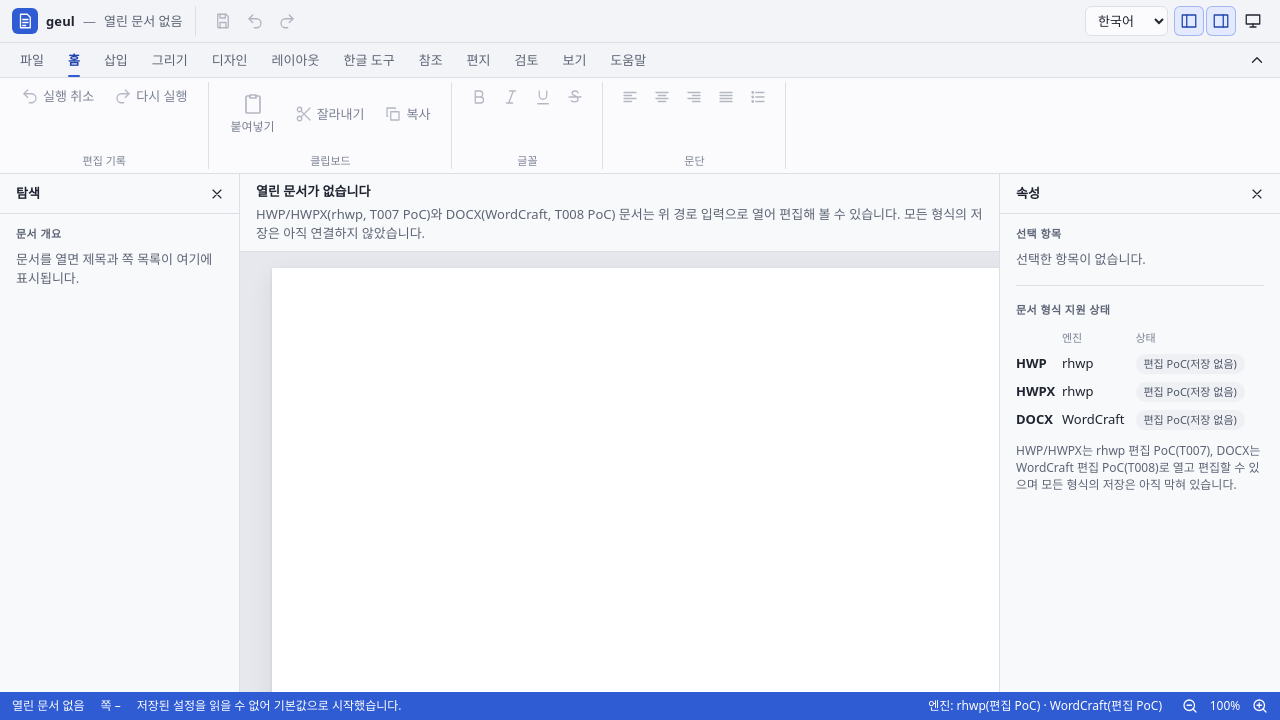
Test: 저장 근거 없는 회복 알림 금지(A) › 손상된 저장값: 쓰기 실패 뒤 기본값으로 되돌려도 저장된 것으로 보지 않는다
The image size is (1280, 720).
Click the button named "테마: 시스템".
click(1253, 21)  # box [1238,6,1268,36]
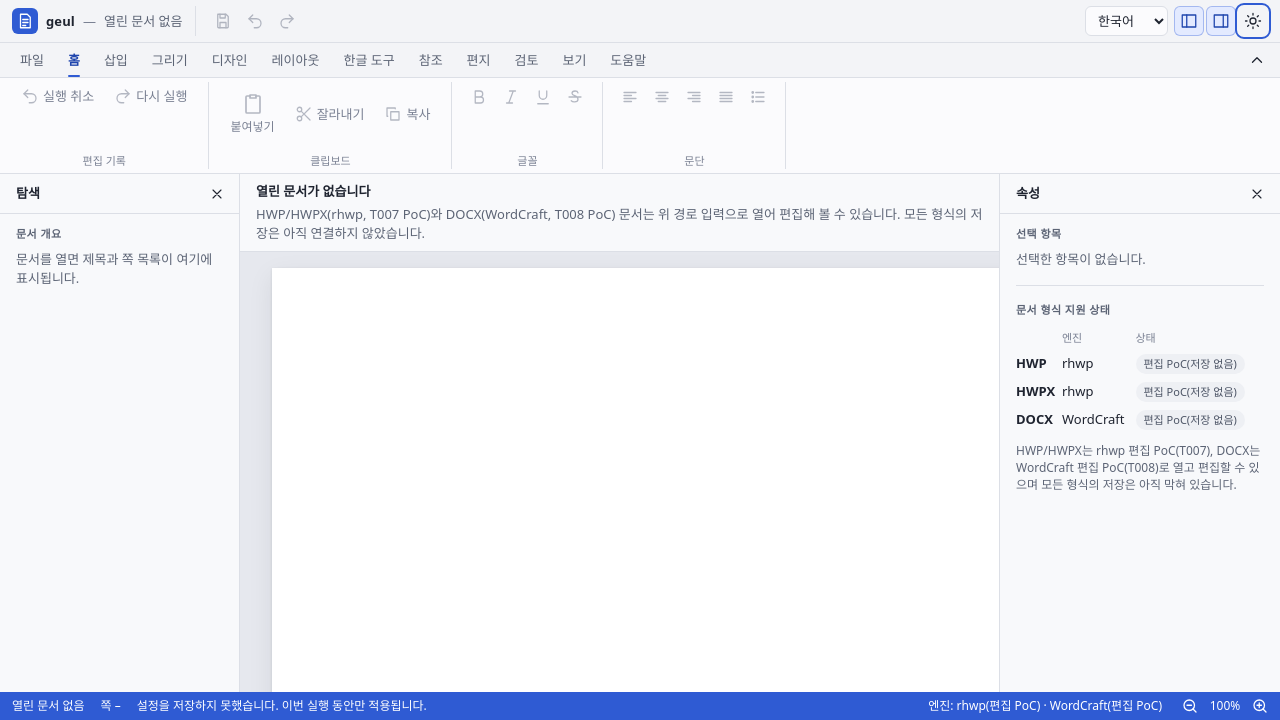
Expected: the message shows "설정을 저장하지 못했습니다", [137,697,427,714]
Click the button named "테마: 밝게".
click(1253, 21)  # box [1238,6,1268,36]
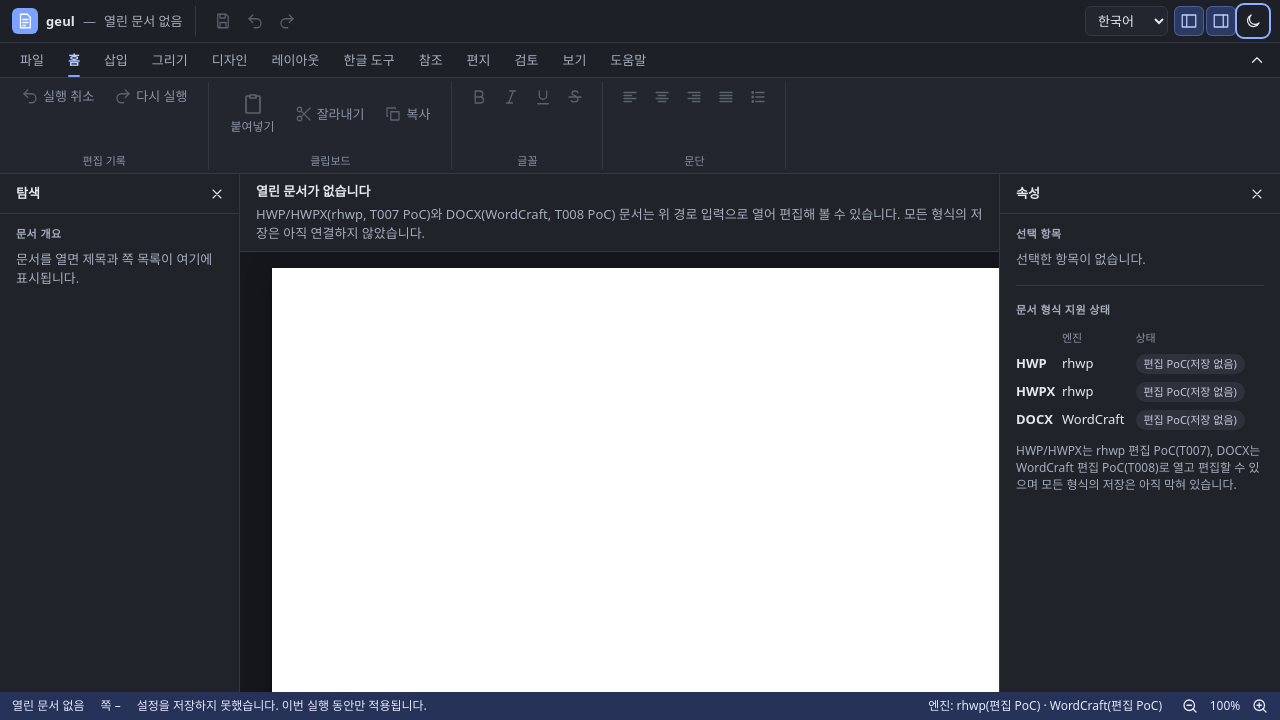
Click the button named "테마: 어둡게".
click(1253, 21)  # box [1238,6,1268,36]
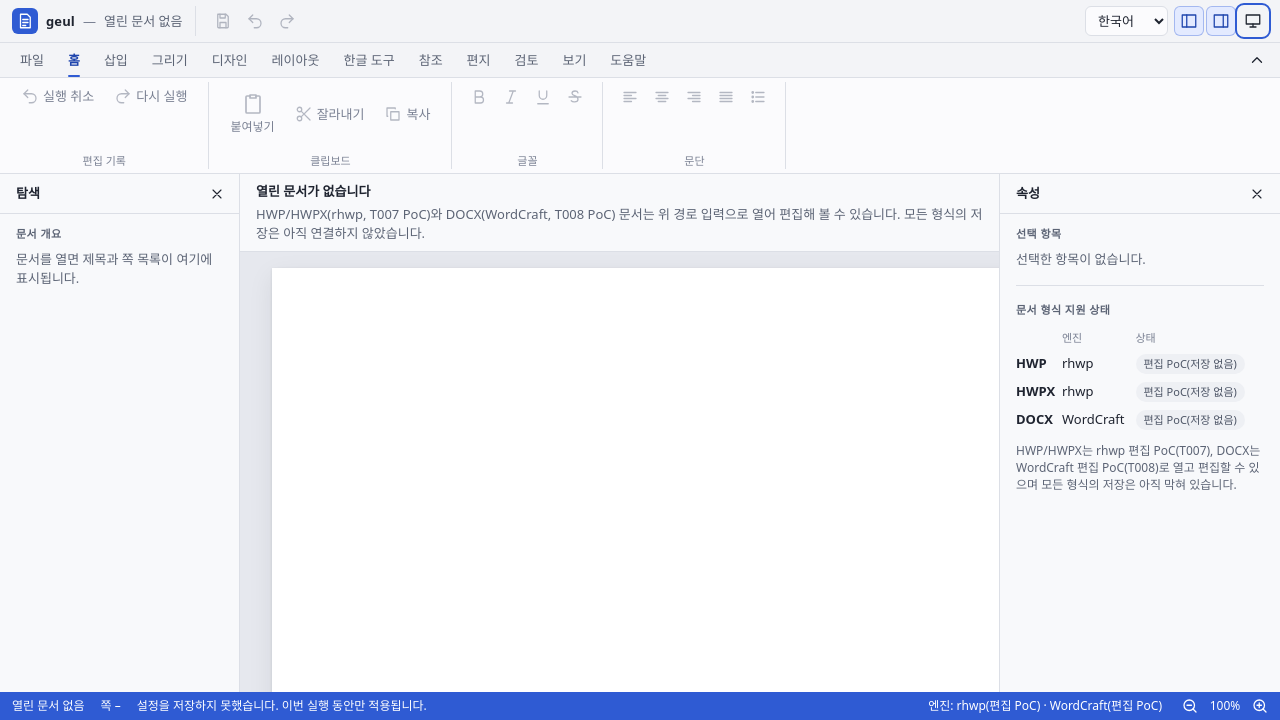
Expected: the message does not show "준비됨", [137,697,427,714]
Expected: the message shows "설정을 저장하지 못했습니다", [137,697,427,714]
Click the button named "테마: 시스템".
click(1253, 21)  # box [1238,6,1268,36]
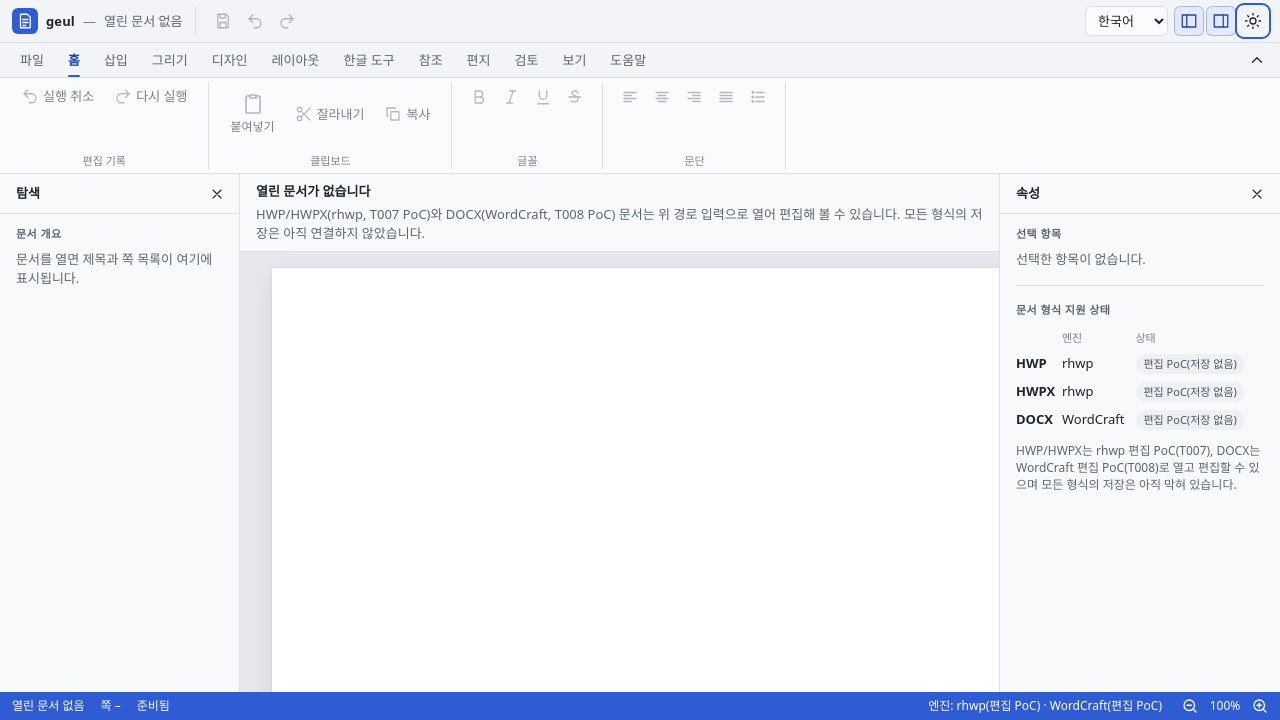
Expected: the message reads "준비됨", [137,697,170,714]
